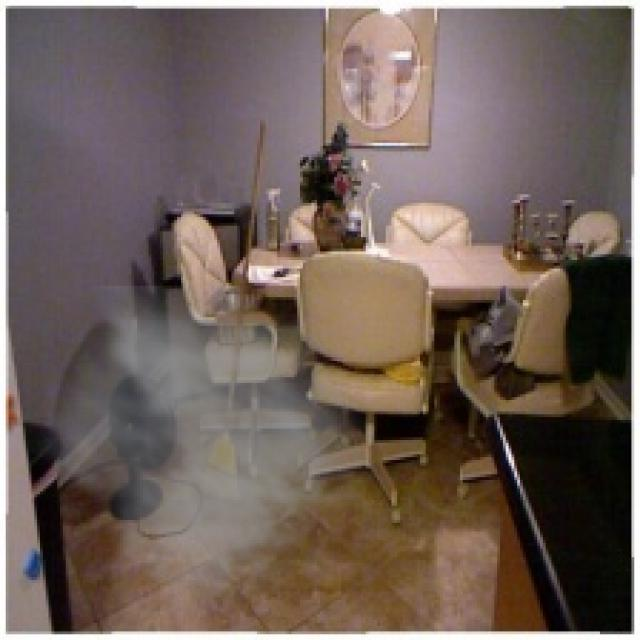smoke: (23, 286, 383, 634)
